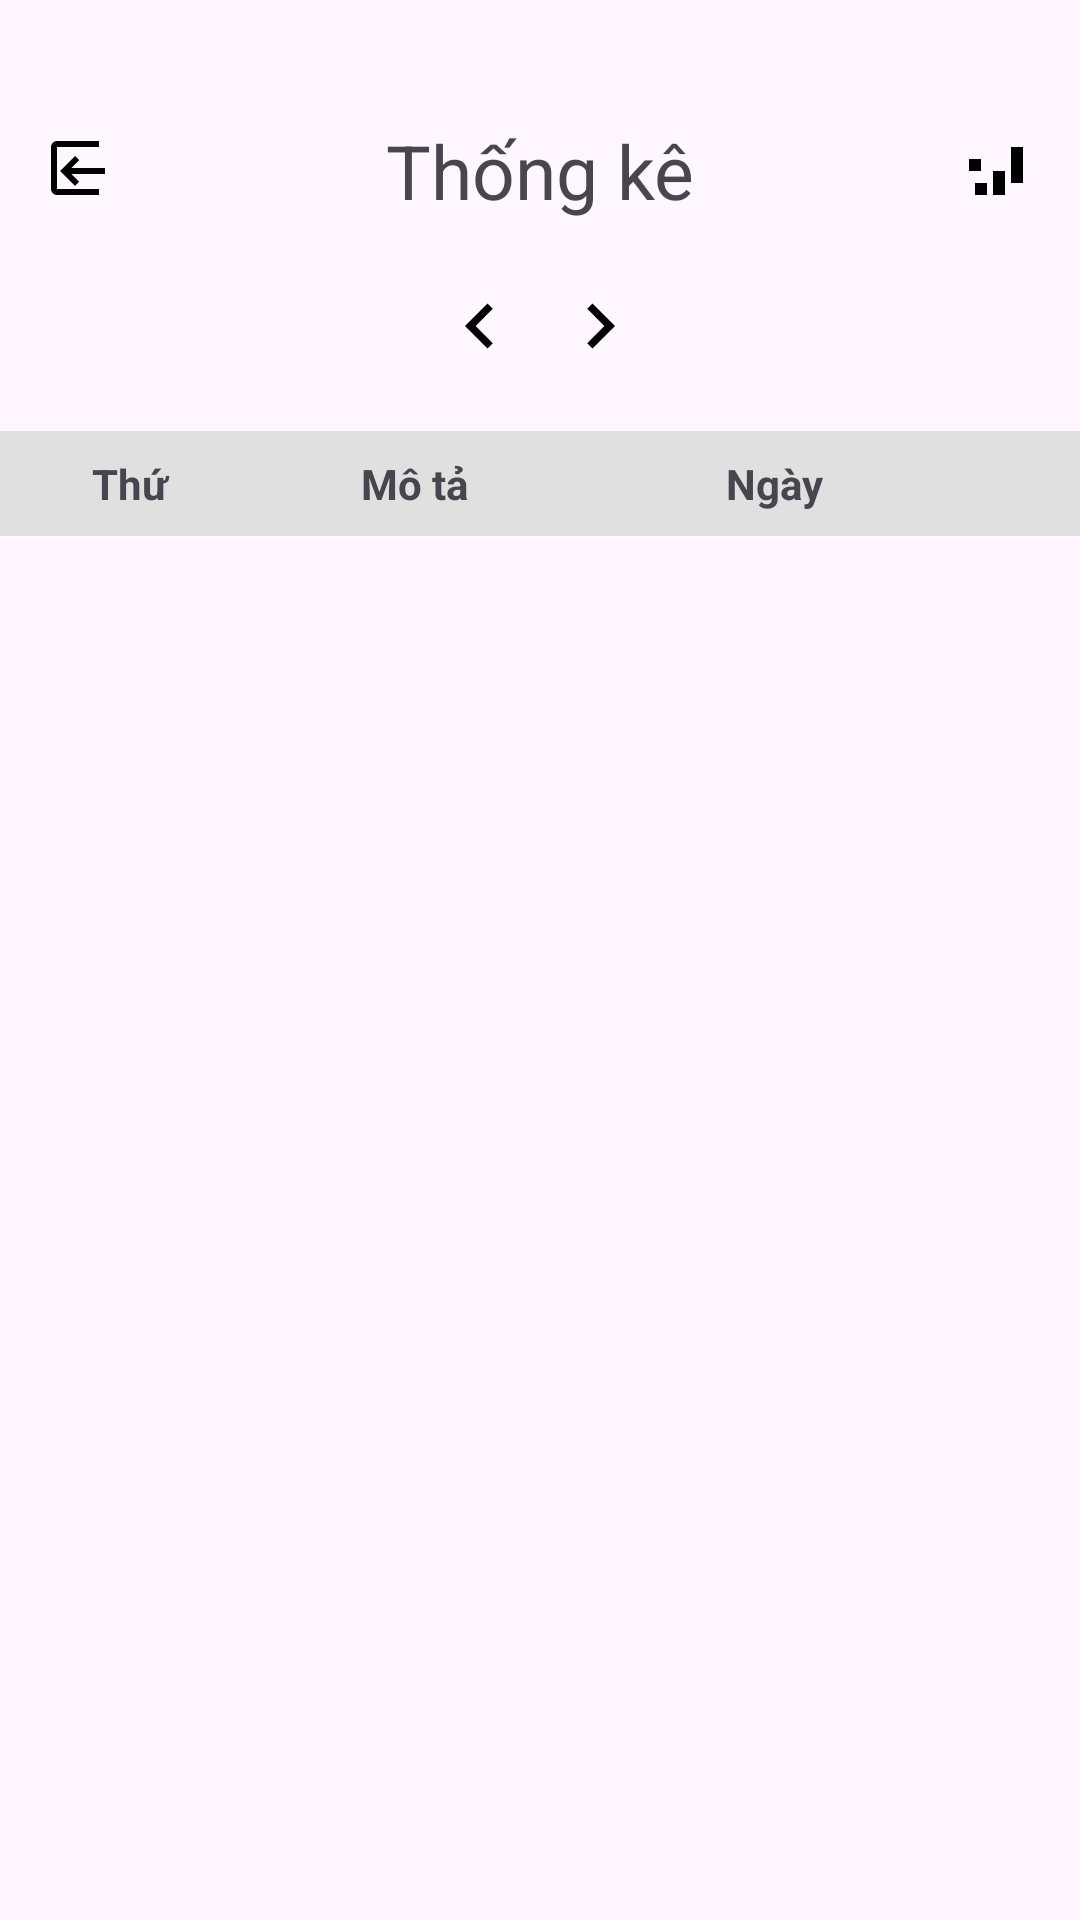

Point at icon controls on the screen. Image size 1080x1920, points as [x,y].
chart: [996,171]
exit: [78,168]
next: [601,326]
prev: [479,326]
